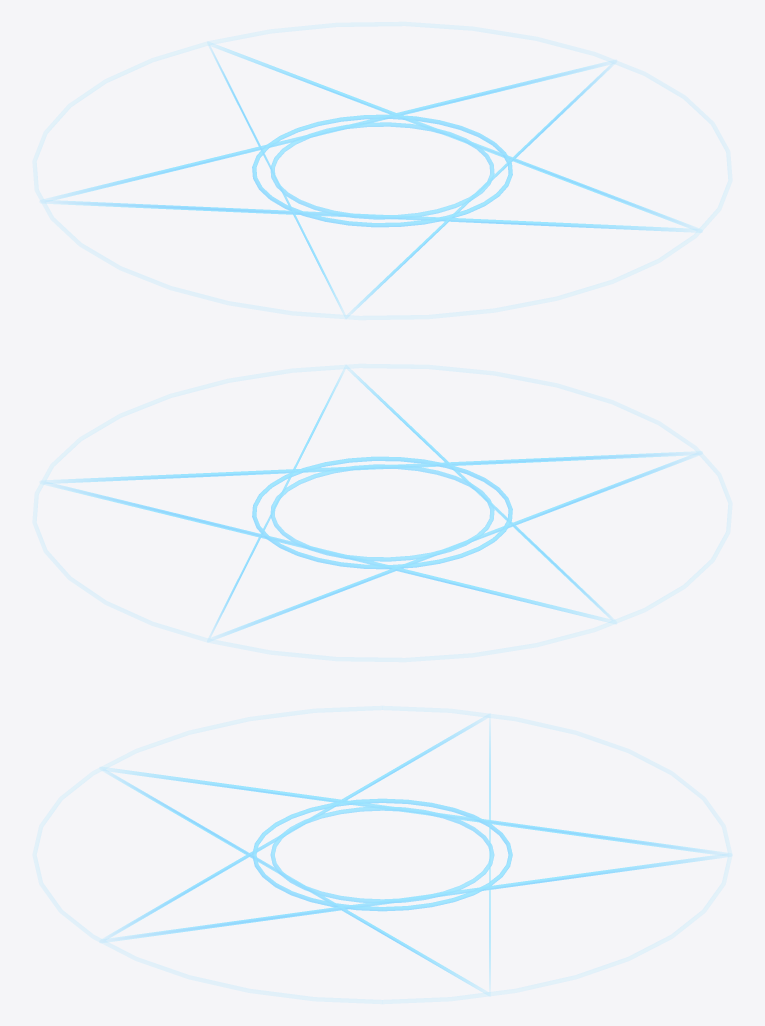
File: magic_circle_v1.glb
3 views of the same model, one above another, from view 1: azimuth 30°, elevation 25°; view 2: azimuth 150°, elevation 25°; view 3: azimuth 270°, elevation 25° (orthographic).
Visible parts, largest first — view 1: MagicCircle; view 2: MagicCircle; view 3: MagicCircle.
Boxes of the visible parts, bbox=[...] form: MagicCircle: bbox=[33, 22, 731, 319]; MagicCircle: bbox=[33, 364, 731, 661]; MagicCircle: bbox=[33, 706, 732, 1003].
Bounding box in the file's own units: 2.01 × 0.012 × 2.01.
Materials: 1 (1 with a texture image).
